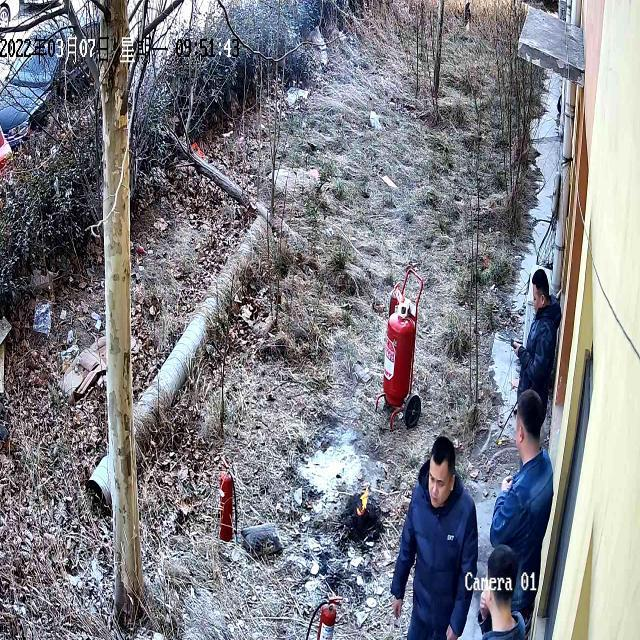Fire: (354, 484, 374, 516)
Smoke: (335, 404, 364, 492)
